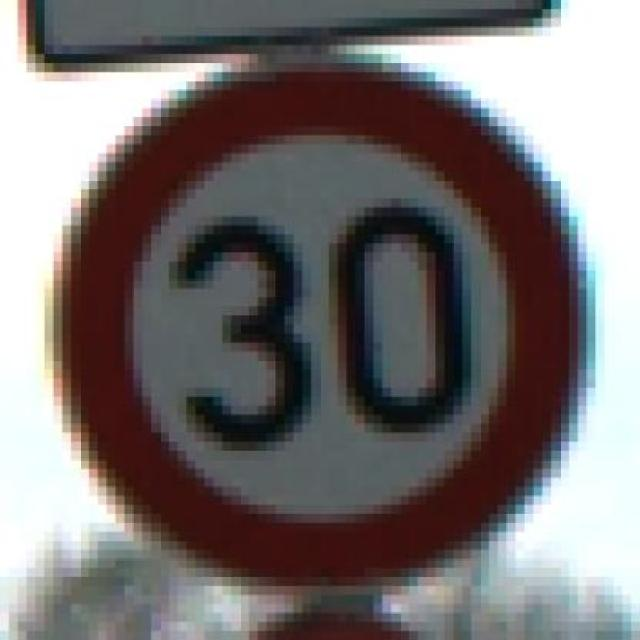Speed Limit 30 KMPh: (45, 63, 604, 605)
